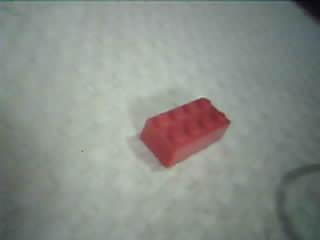lego: (138, 96, 231, 168)
